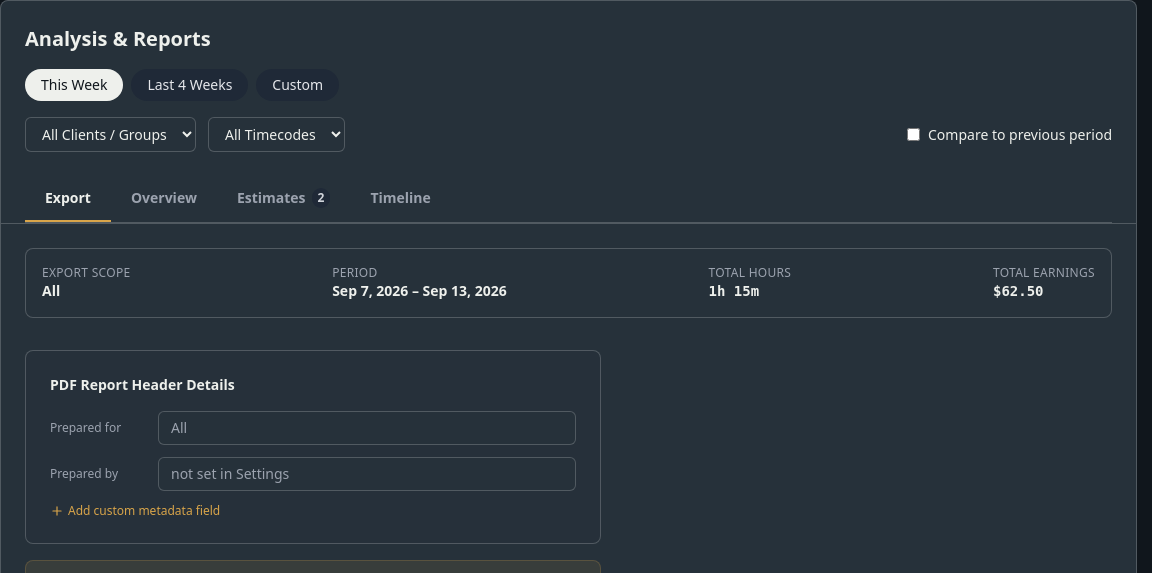
Test: AnalysisView Redesign Tabs & Metrics › renders headline cards when navigating to Overview tab
Click the tab "Overview". click: (164, 199)
box: [111, 176, 217, 222]
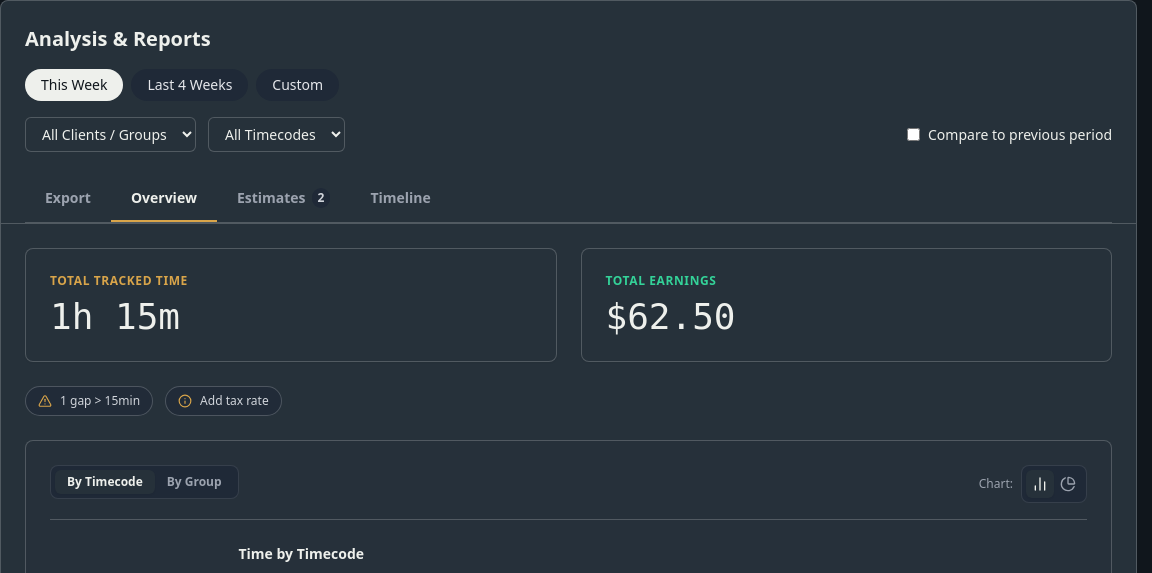
Check: the text "TOTAL EARNINGS" is shown, box [606, 273, 716, 289]
Check: the text "TOTAL TRACKED TIME" is shown, box [50, 273, 188, 289]
